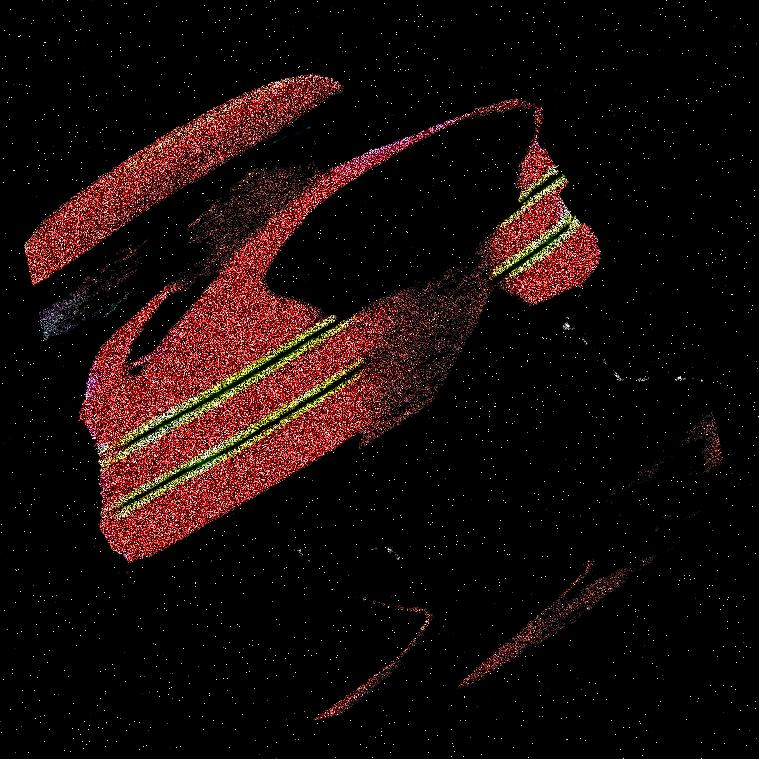Pessoa: (211, 0, 623, 758)
